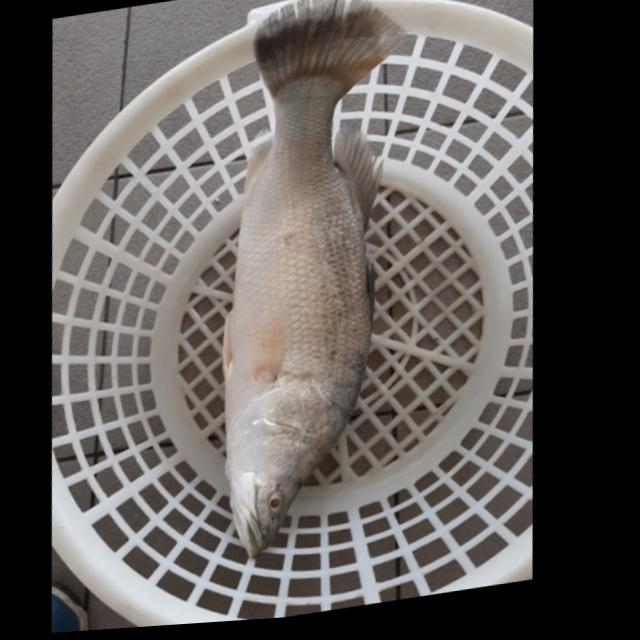Seabass: (173, 0, 456, 562)
